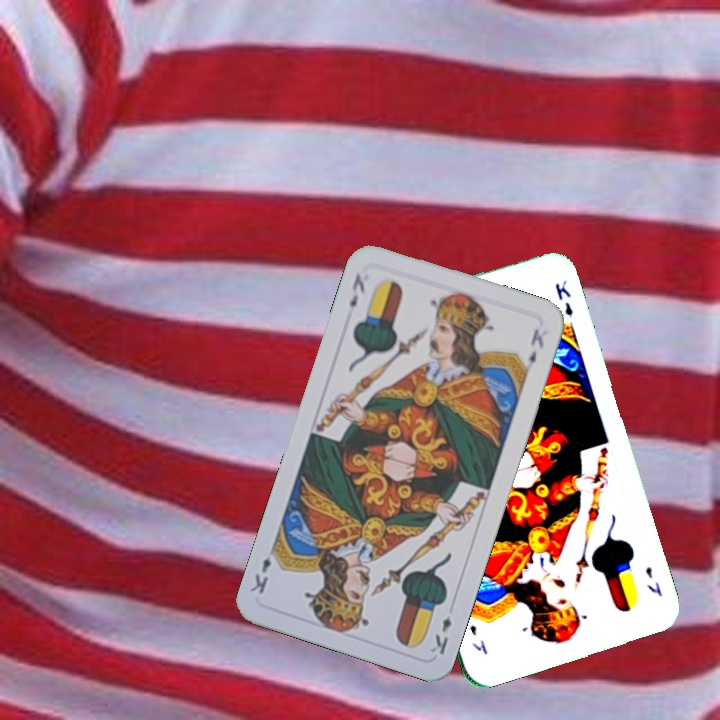EK: (426, 612, 454, 658), (345, 269, 368, 310), (641, 562, 665, 599)
